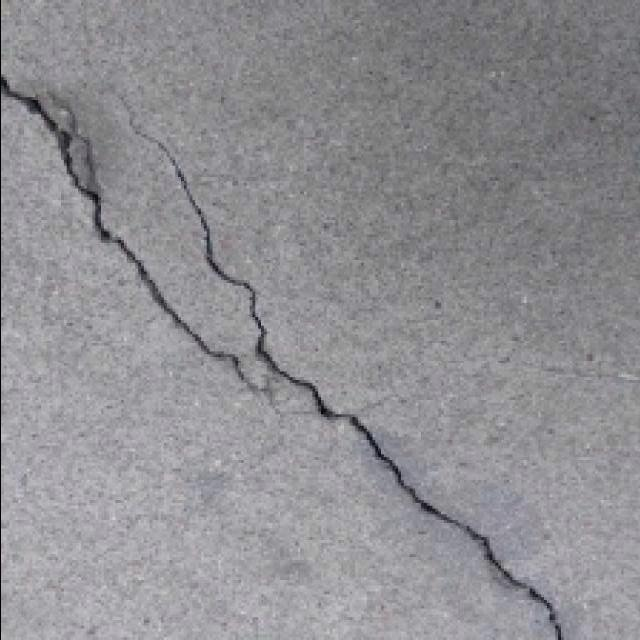SurfaceCrack: (0, 86, 582, 640)
